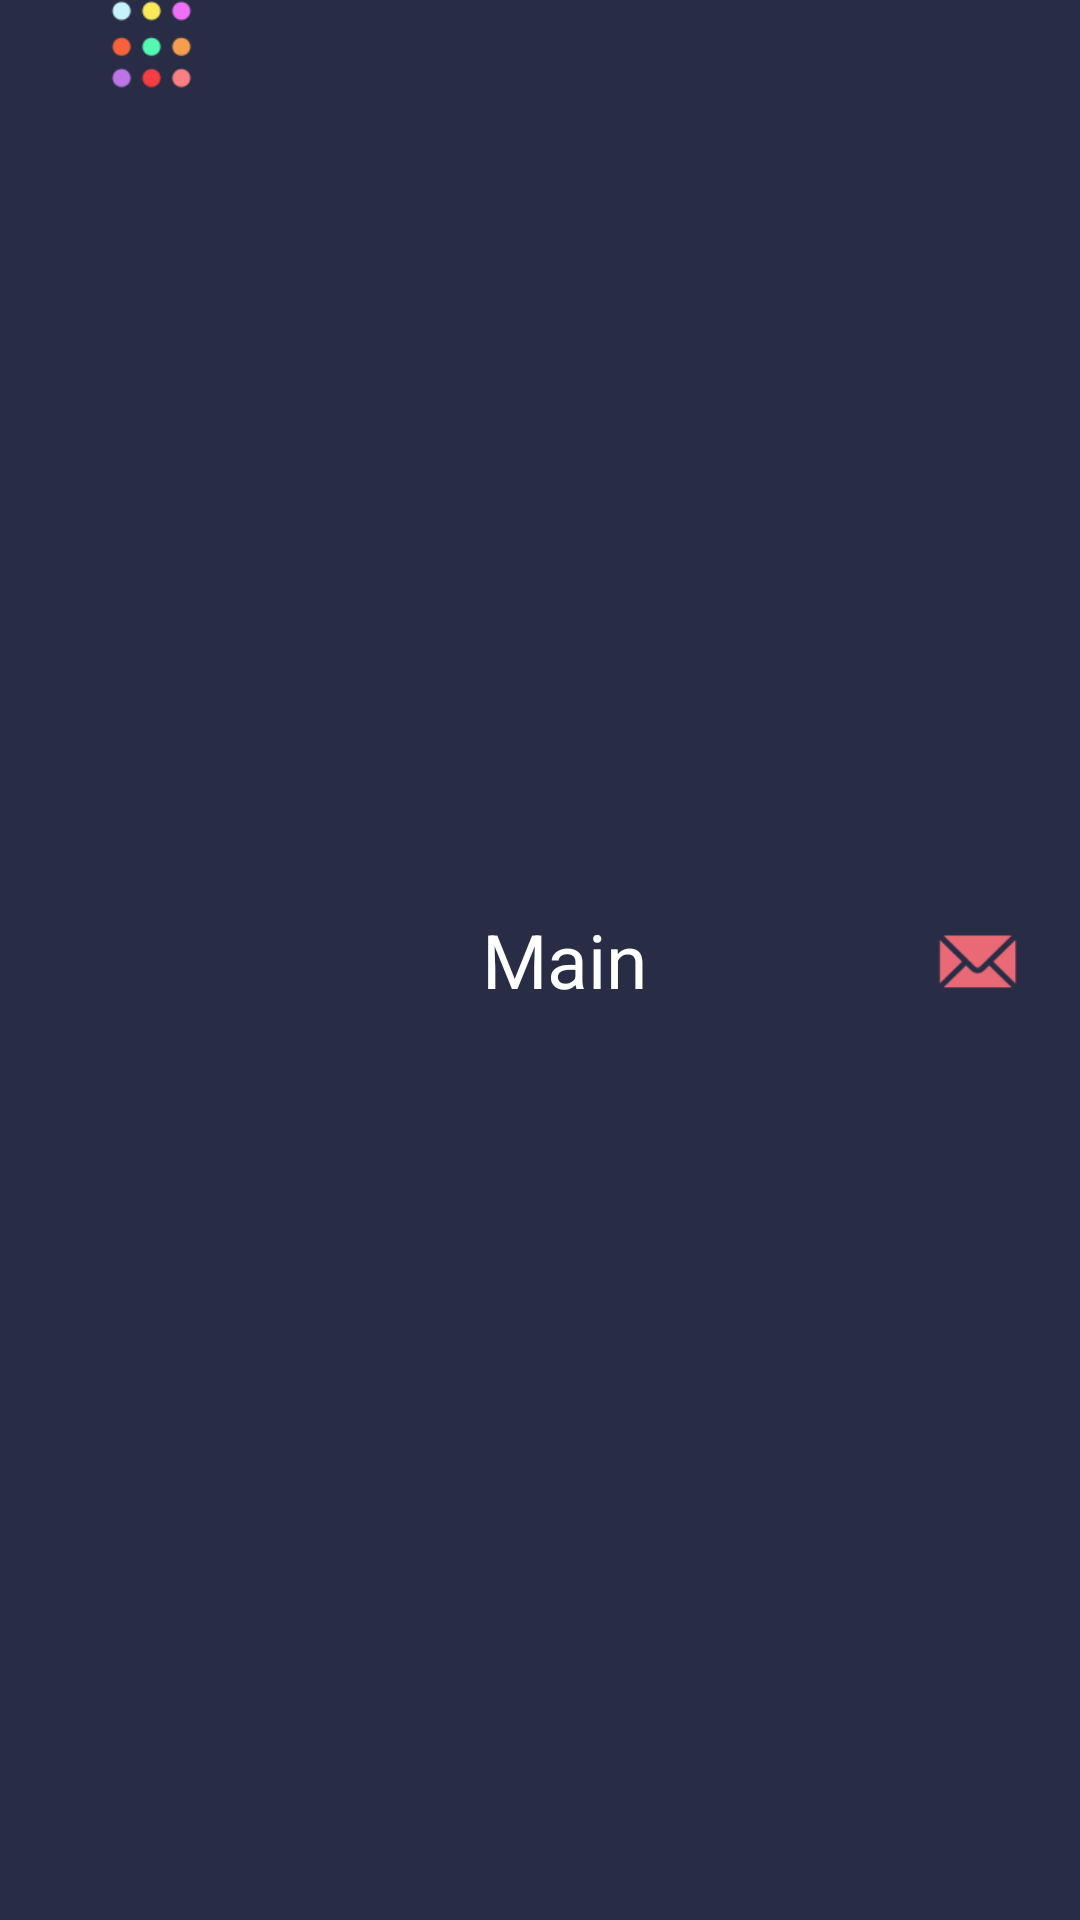

Screen size 1080×1920. Icon name, then its center in pixels as point (x, y):
mail: point (978, 961)
menu: point (151, 44)
